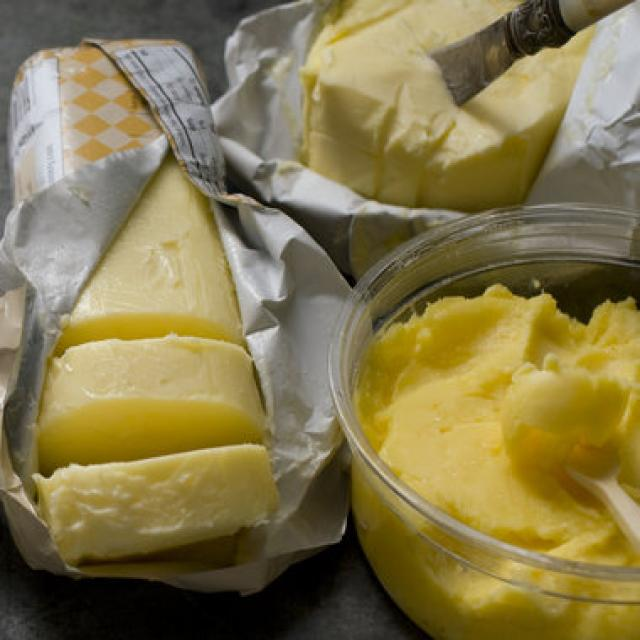Butter: (13, 43, 273, 545), (364, 282, 640, 602), (298, 2, 585, 206)
